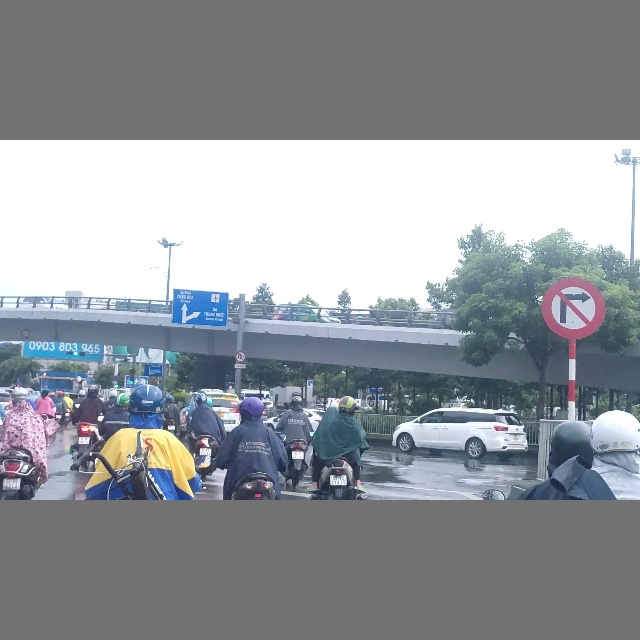P.123b: (538, 277, 606, 339)
P.124b1: (235, 351, 246, 363)
